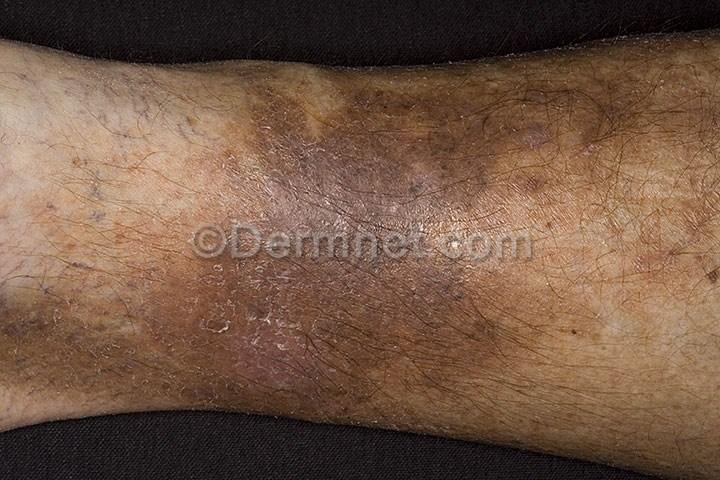Eczema: (191, 259, 487, 462), (223, 49, 510, 225), (505, 46, 720, 211), (7, 240, 189, 413), (492, 271, 616, 383)
